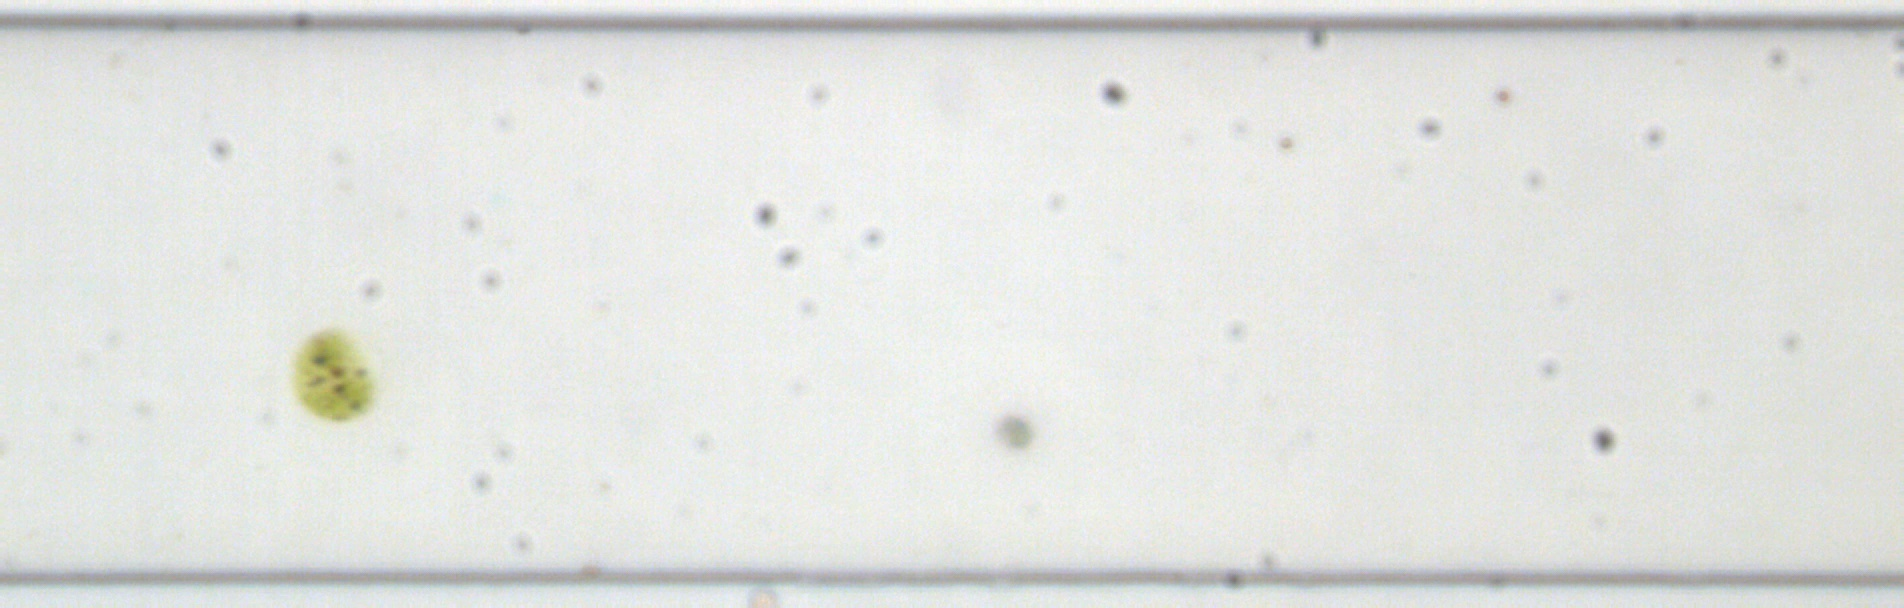Chlorella: (1277, 136, 1294, 152), (1494, 87, 1509, 104)
Dunaliella salina: (993, 411, 1032, 447)
Haematococcus: (282, 323, 382, 424)
